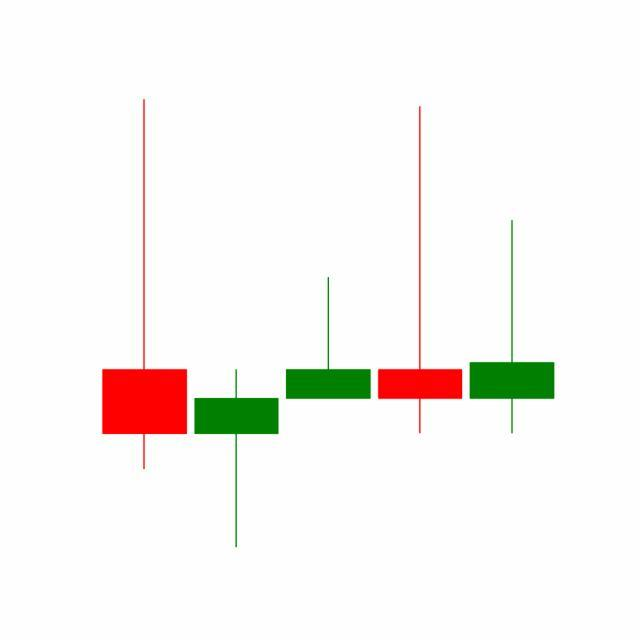Gravestone Doji: (374, 103, 468, 437)
